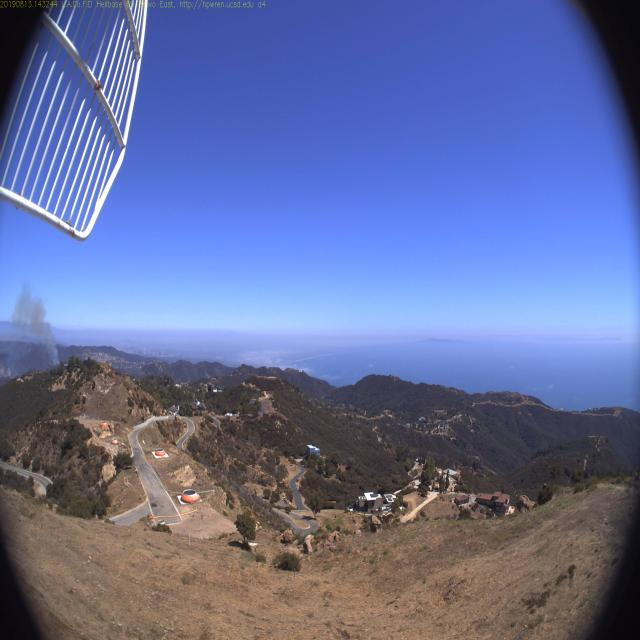smoke: (33, 317, 75, 387)
